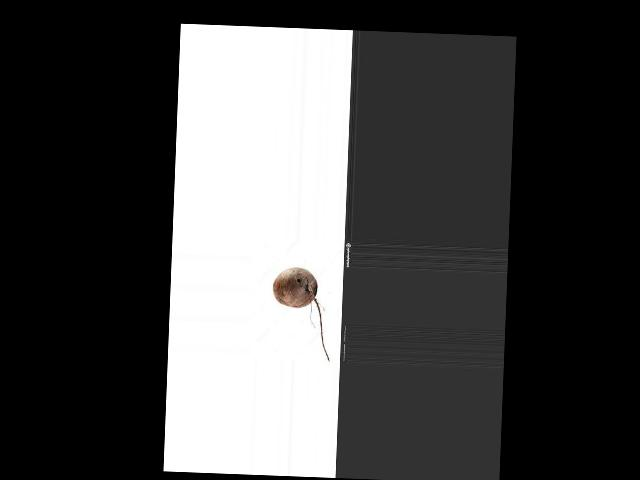beet: (271, 267, 333, 361)
